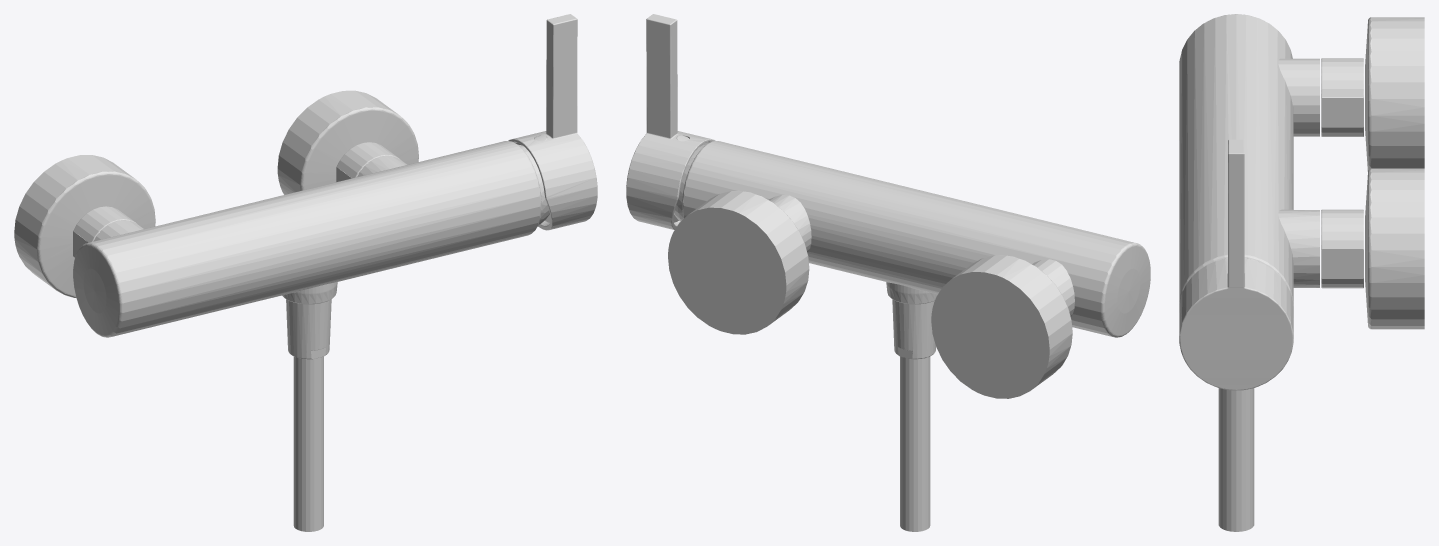
The model's file is AEC_47525.glb.
3 renders of one model, left to right at view 1: azimuth 30°, elevation 25°; view 2: azimuth 150°, elevation 25°; view 3: azimuth 270°, elevation 25°, orthographic. The views are drawn at different scales.
Parts seen in each view (by area): view 1: 0; view 2: 0; view 3: 0.
Part boxes in pixels (bbox=[...]): 0: bbox=[14, 14, 597, 531]; 0: bbox=[626, 14, 1150, 531]; 0: bbox=[1179, 14, 1424, 531].
Size of the model in its own units: 0.2735 by 0.2421 by 0.1029.
Materials: 1 (1 with a texture image).
